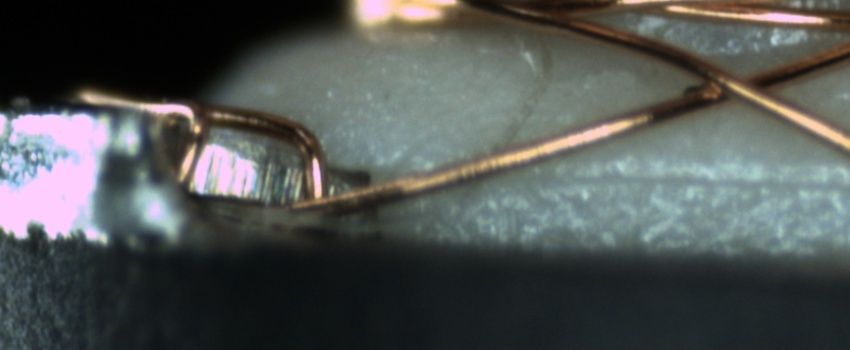CL: (675, 57, 799, 113)
DL: (433, 147, 850, 211)
TE: (75, 77, 342, 212)
